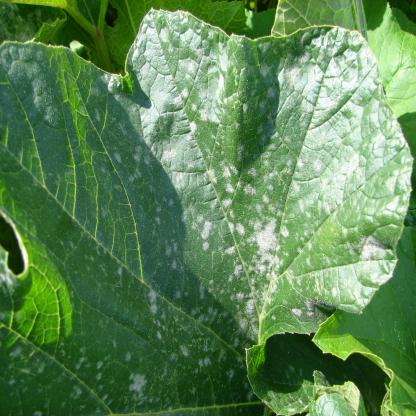Squash Powdery mildew leaf: (4, 5, 416, 407)
